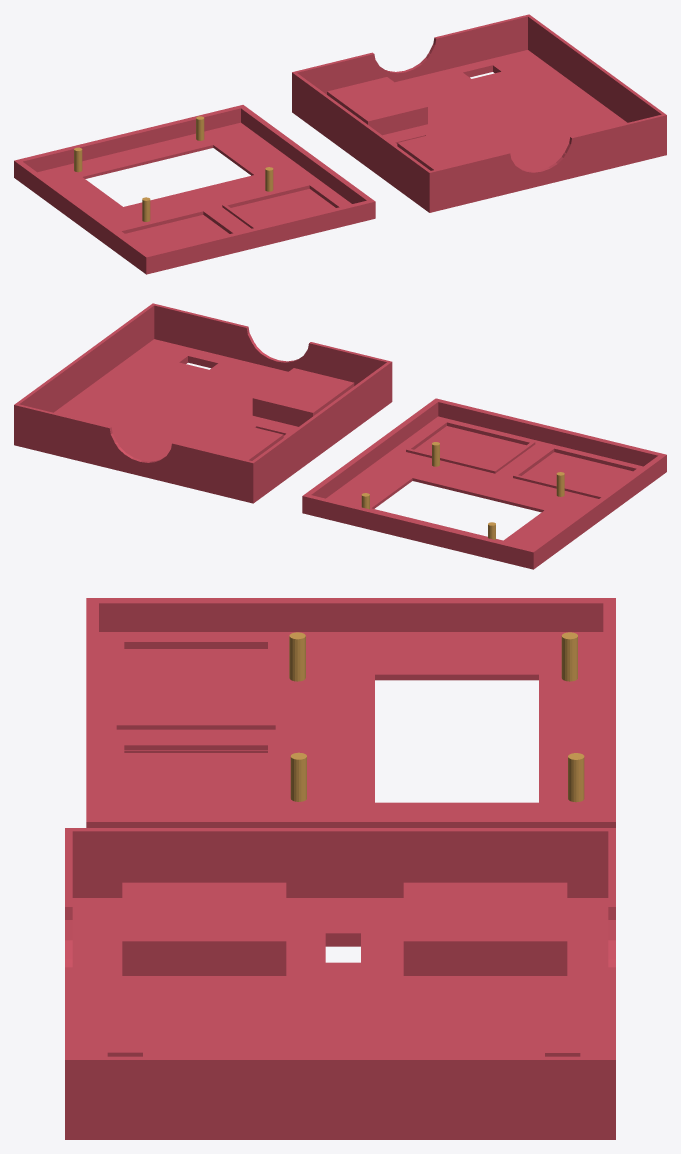
Rendered from Display layer.glb.
3 views of the same model, one above another, from view 1: azimuth 30°, elevation 25°; view 2: azimuth 150°, elevation 25°; view 3: azimuth 270°, elevation 25° (orthographic). The views are drawn at different scales.
Visible parts, largest first — view 1: Mesh_Mesh_head_geo.001_lambert2SG.001; view 2: Mesh_Mesh_head_geo.001_lambert2SG.001; view 3: Mesh_Mesh_head_geo.001_lambert2SG.001.
Boxes of the visible parts, left/top/right/bottom form: Mesh_Mesh_head_geo.001_lambert2SG.001: left=14, top=14, right=666, bottom=274; Mesh_Mesh_head_geo.001_lambert2SG.001: left=14, top=303, right=666, bottom=569; Mesh_Mesh_head_geo.001_lambert2SG.001: left=65, top=598, right=615, bottom=1139.
Size of the model in its own units: 94.4 by 7 by 43.7.
